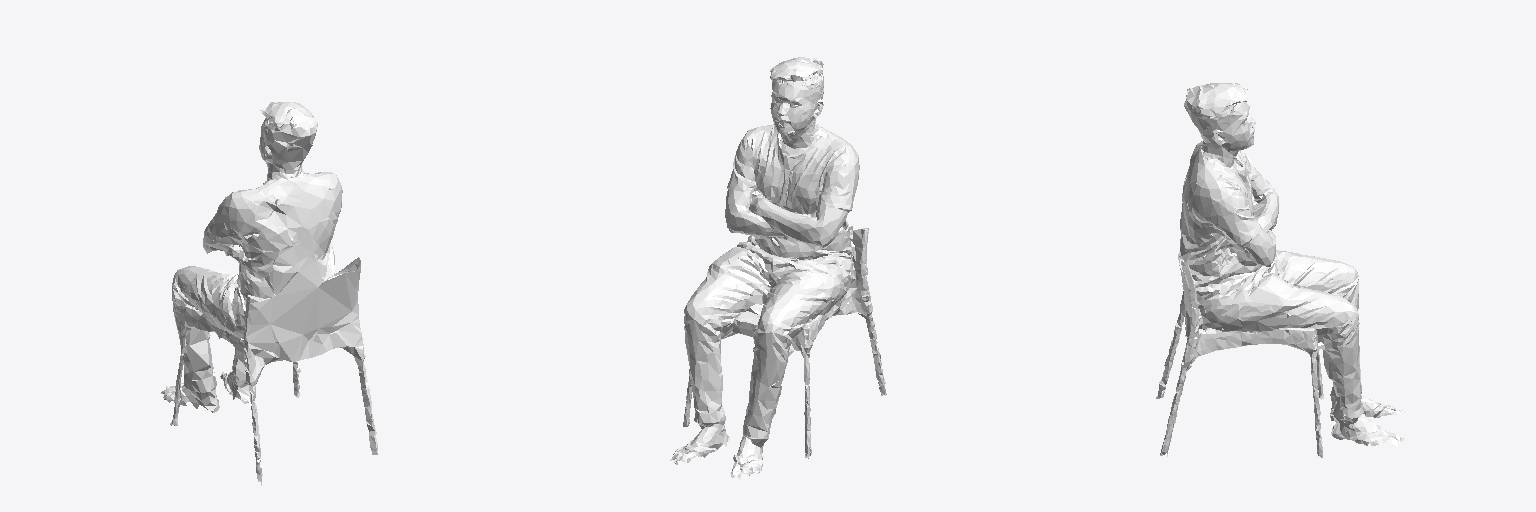
File: human_sitting.obj
3 views of the same model, side by side, from view 1: azimuth 30°, elevation 25°; view 2: azimuth 150°, elevation 25°; view 3: azimuth 270°, elevation 25° (orthographic).
Visible parts, largest first — view 1: saurav_sitting_simplify; view 2: saurav_sitting_simplify; view 3: saurav_sitting_simplify.
Part boxes in pixels (x1,y1,x2,y2): saurav_sitting_simplify: (161, 102, 377, 485); saurav_sitting_simplify: (670, 57, 886, 479); saurav_sitting_simplify: (1156, 83, 1404, 457).
Bounding box in the file's own units: 0.517 × 1.3 × 0.8579.